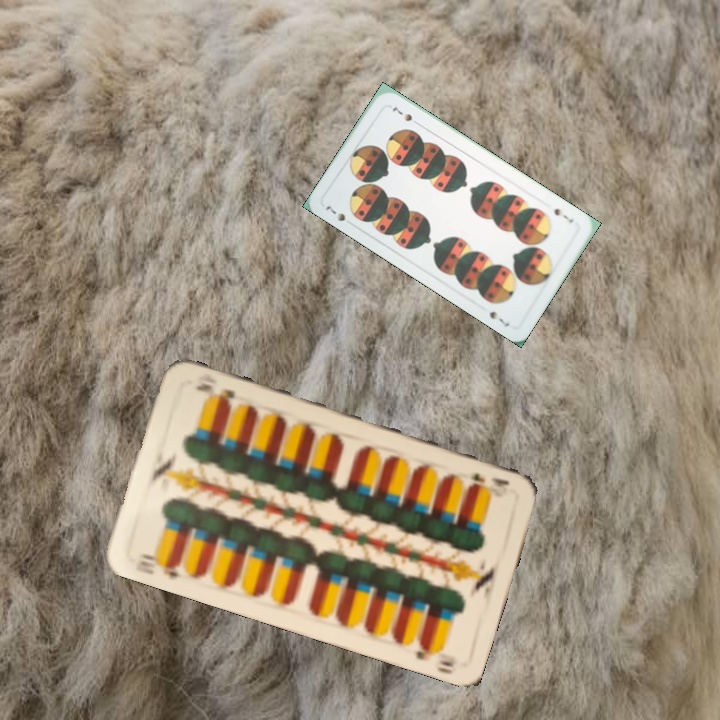E10: (131, 549, 183, 580), (466, 469, 512, 489)
S7: (321, 202, 348, 224), (550, 204, 576, 225)
